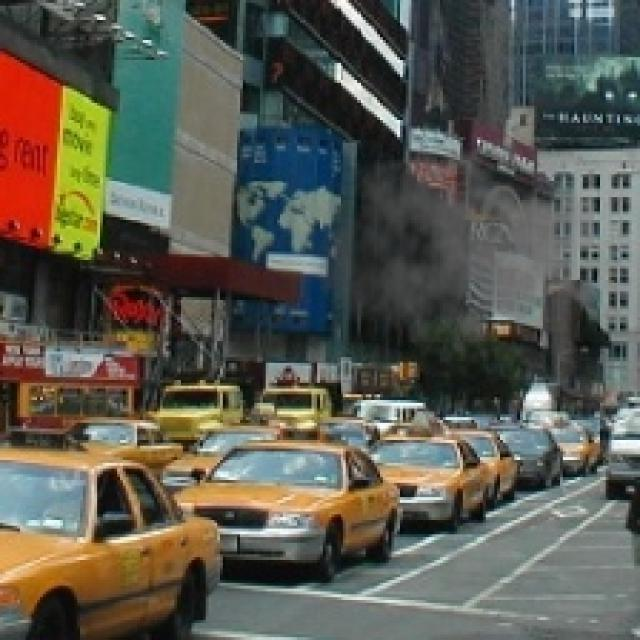Smoke: (314, 137, 594, 369)
